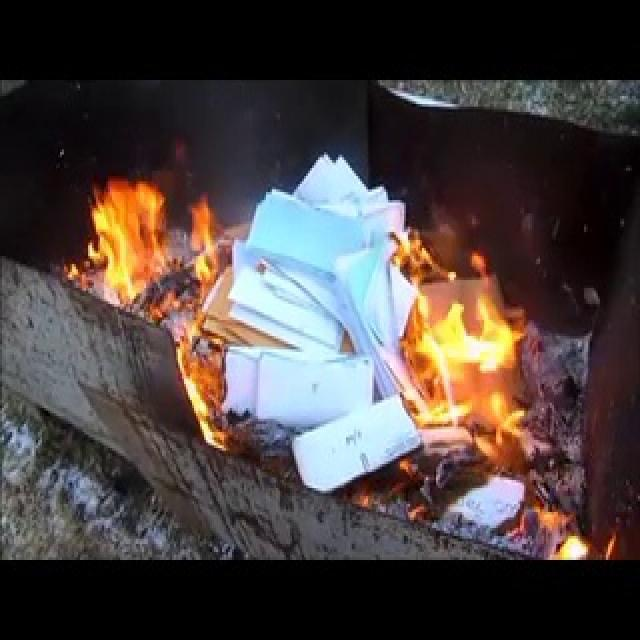fire: (383, 194, 549, 453), (50, 92, 222, 332)
